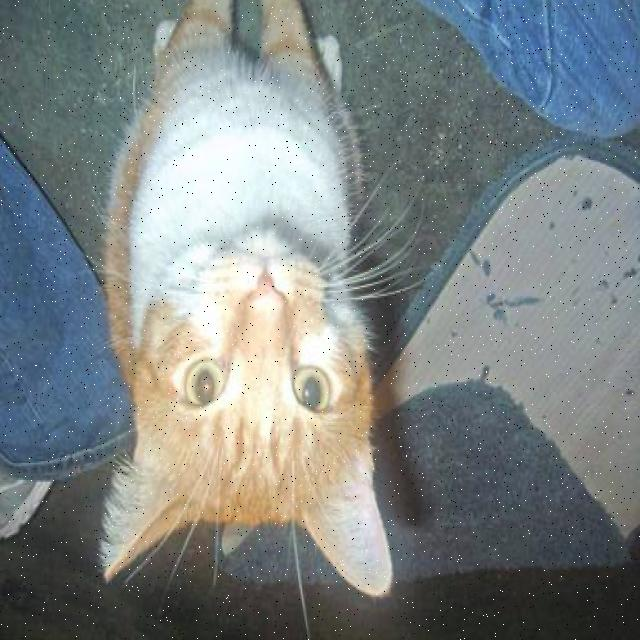Cat: (96, 220, 394, 598)
